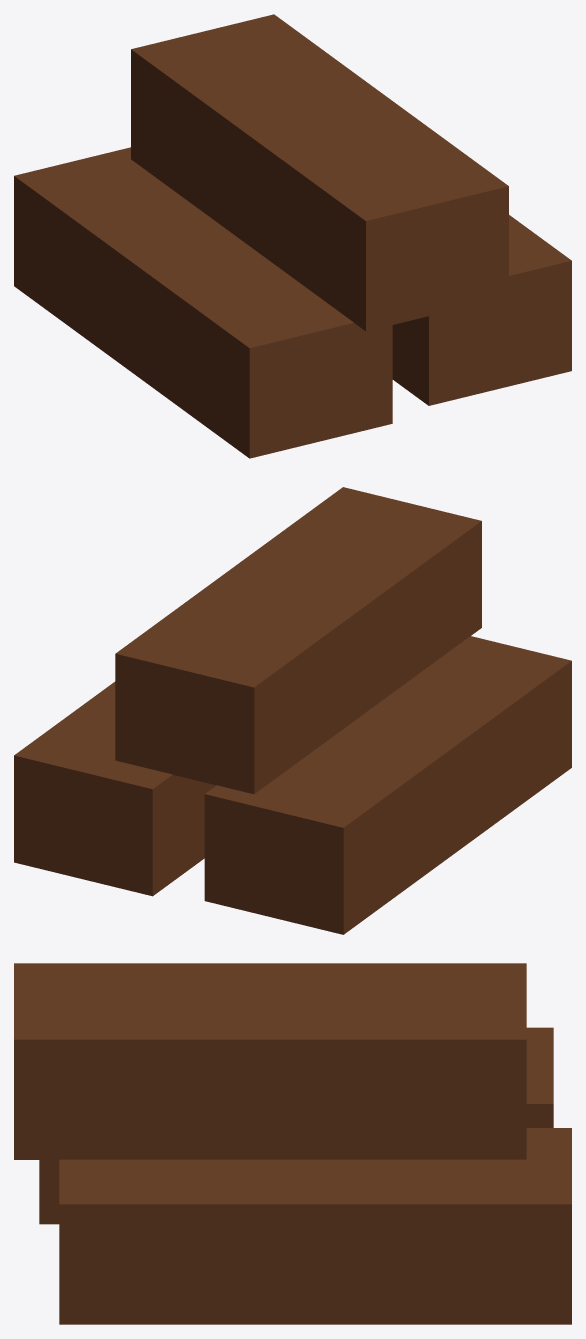
File: Logs.fbx
3 views of the same model, one above another, from view 1: azimuth 30°, elevation 25°; view 2: azimuth 150°, elevation 25°; view 3: azimuth 270°, elevation 25° (orthographic). The views are drawn at different scales.
Parts seen in each view (by area): view 1: Logs; view 2: Logs; view 3: Logs.
Boxes of the visible parts, bbox=[...] form: Logs: bbox=[14, 14, 571, 458]; Logs: bbox=[14, 487, 571, 934]; Logs: bbox=[14, 963, 571, 1324].
Bounding box in the file's own units: 88 × 55.94 × 118.
